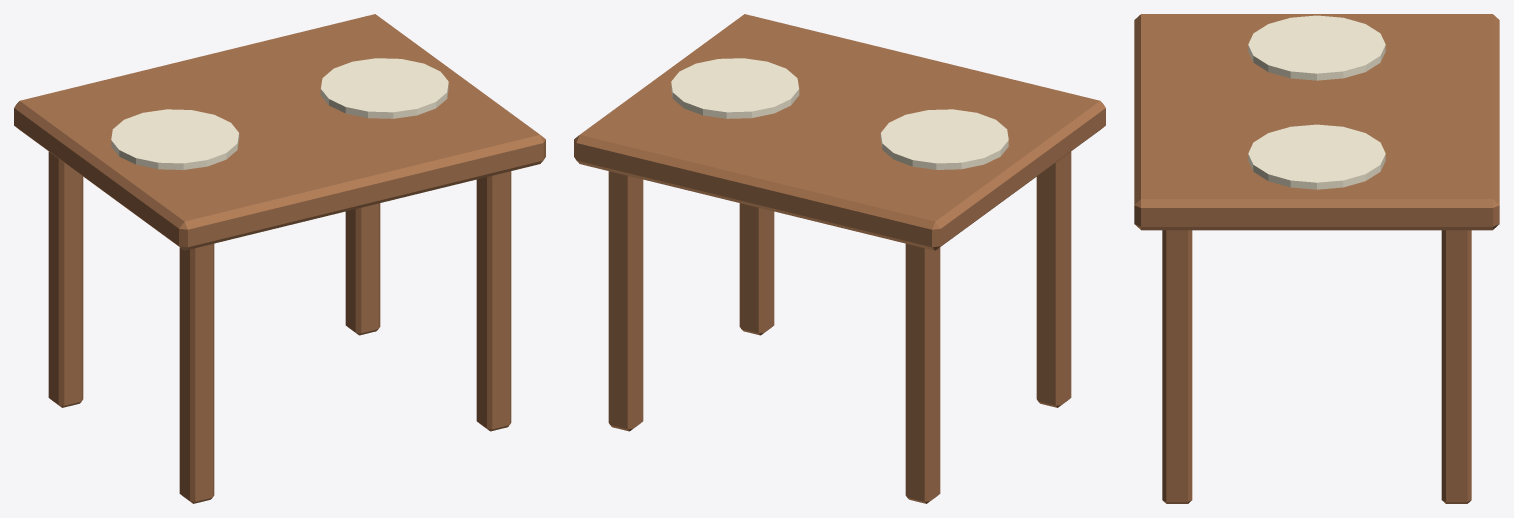
Rendered from Prop_RestaurantTable.fbx.
The picture shows the model from 3 angles, left to right: view 1: azimuth 30°, elevation 25°; view 2: azimuth 150°, elevation 25°; view 3: azimuth 270°, elevation 25°; orthographic projection. The views are drawn at different scales.
Visible parts, largest first — view 1: Tabletop, Leg.010, Leg.012, Leg.011, Plate.001, Plate, Leg.013; view 2: Tabletop, Leg.011, Leg.013, Leg.010, Plate.001, Plate, Leg.012; view 3: Tabletop, Leg.012, Leg.013, Plate.001, Plate.
Boxes of the visible parts, box(x1,y1,x2,y2) form: Tabletop: box(14, 14, 545, 250); Leg.010: box(179, 243, 214, 503); Leg.012: box(476, 171, 511, 431); Leg.011: box(48, 151, 83, 407); Plate.001: box(320, 58, 448, 118); Plate: box(111, 109, 239, 169); Leg.013: box(345, 203, 380, 335); Tabletop: box(574, 14, 1105, 250); Leg.011: box(905, 243, 940, 503); Leg.013: box(608, 171, 643, 431); Leg.010: box(1036, 151, 1071, 407); Plate.001: box(671, 58, 799, 118); Plate: box(880, 109, 1008, 169); Leg.012: box(739, 203, 774, 335); Tabletop: box(1134, 14, 1499, 230); Leg.012: box(1162, 230, 1192, 503); Leg.013: box(1441, 230, 1471, 503); Plate.001: box(1248, 124, 1385, 189); Plate: box(1248, 15, 1385, 80).
Bounding box in the file's own units: 1.05 × 0.829 × 0.85.
